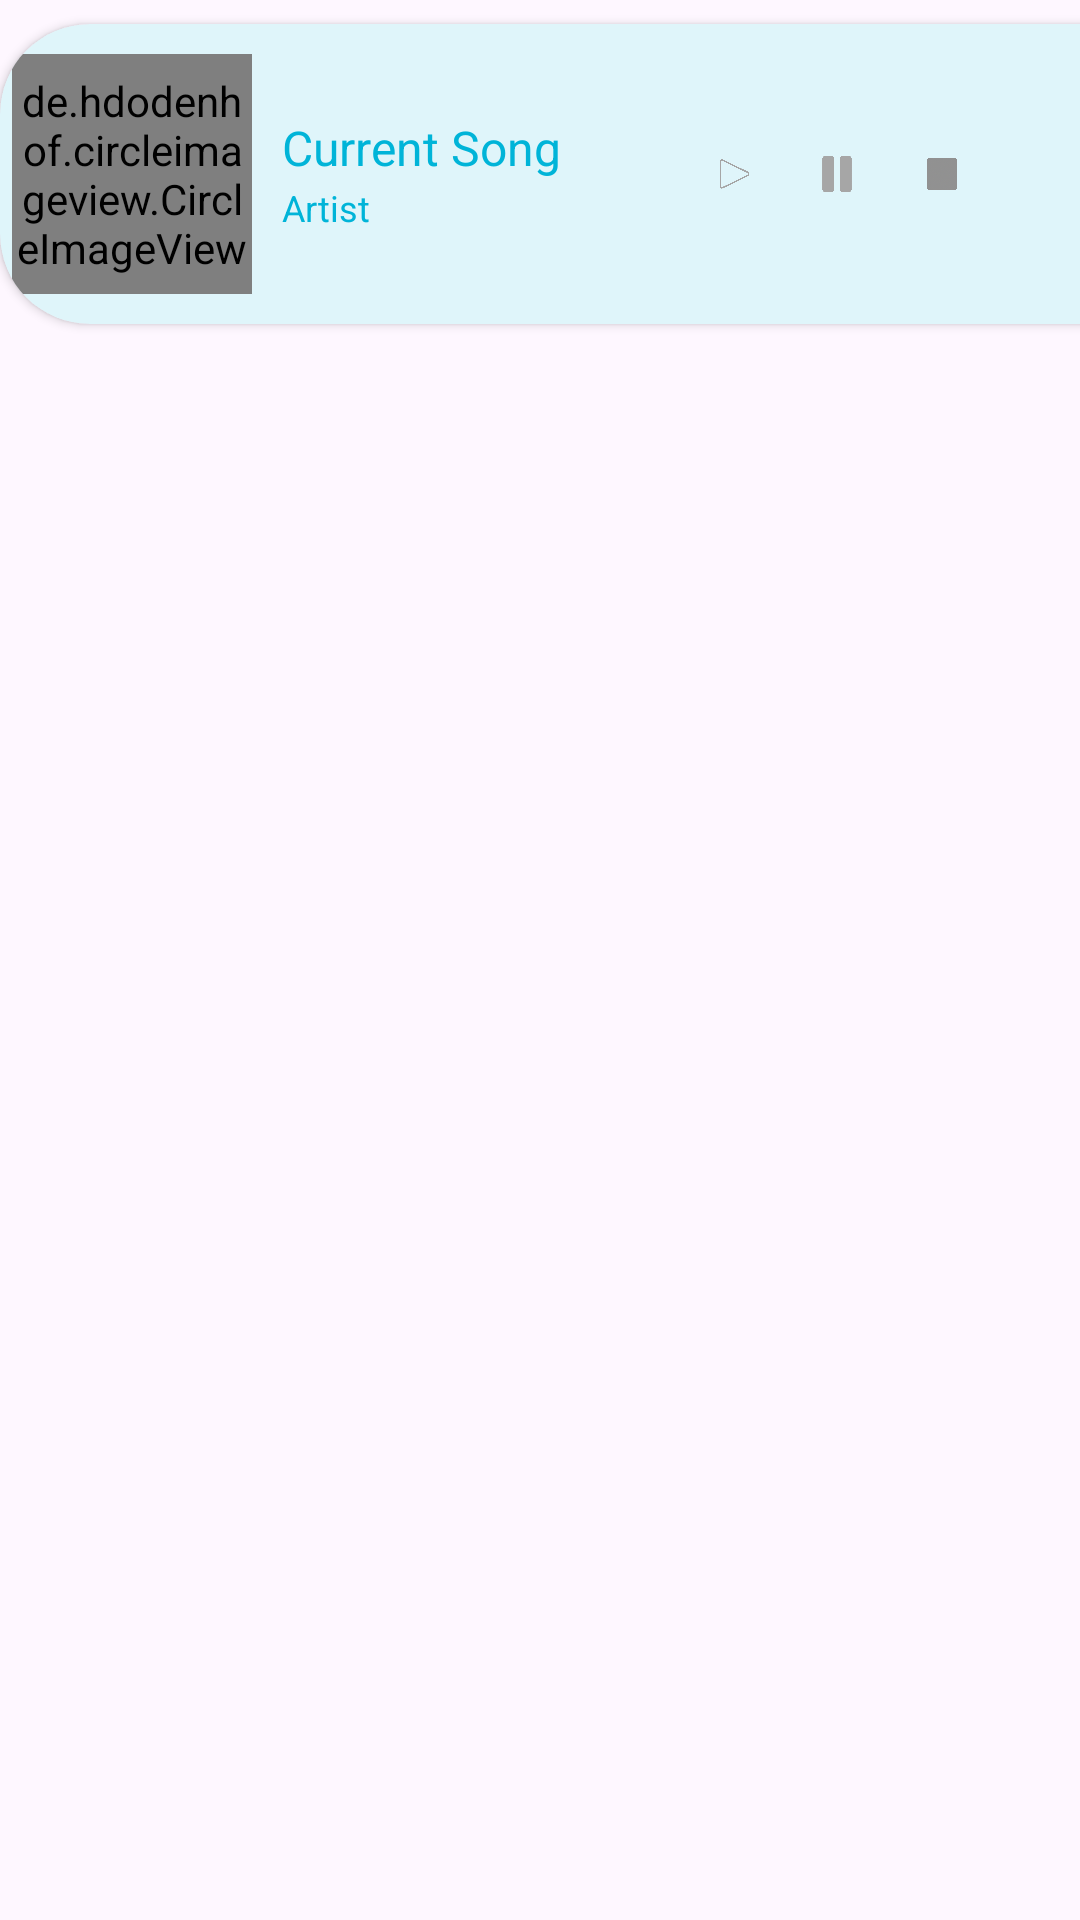

Point at icon controls on the screen. Image size 1080px x 1920px, points as (x=x, y=y).
pause: (x=837, y=174)
play: (x=734, y=174)
